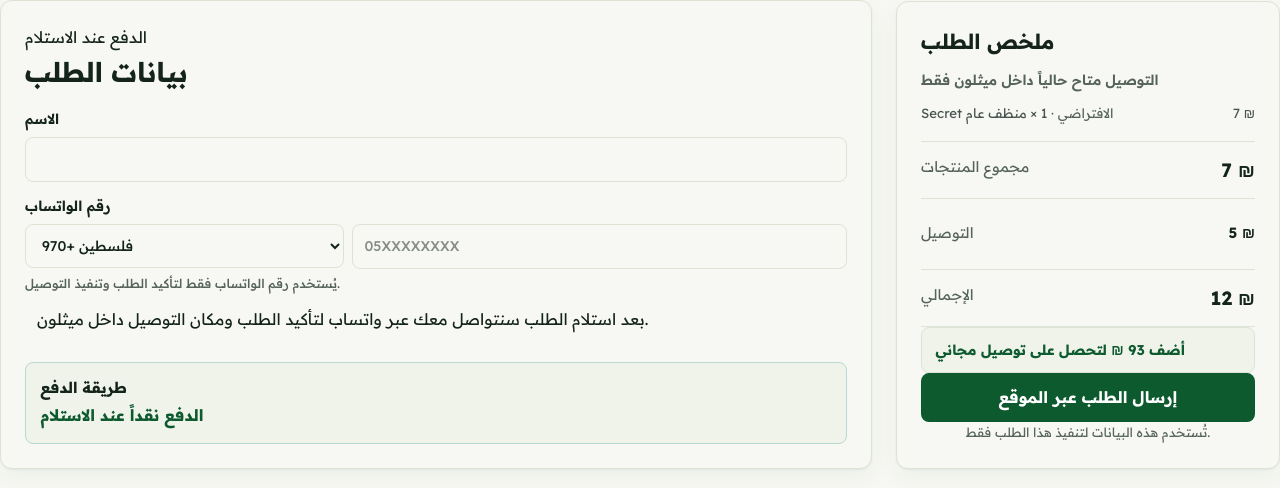
Test: checkout form › clears the cart only after a confirmed success
The width and height of the screenshot is (1280, 488).
Type "عميل تجريبي" into the field labelled "الاسم" at (436, 159), box [25,136,847,182]
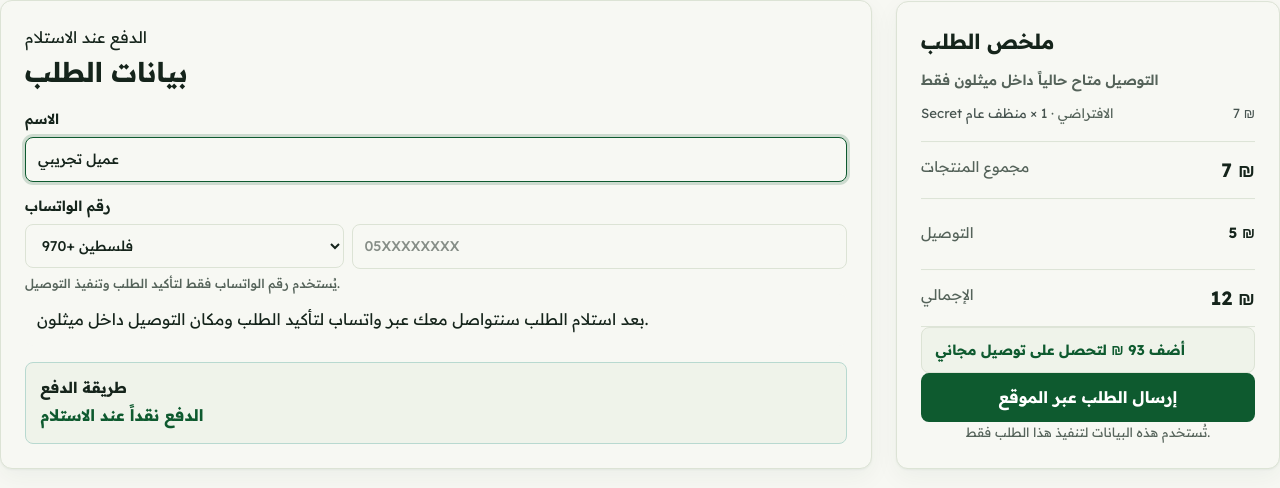
Type "0591234567" into the field named "الرقم المحلي" at (599, 246), box [352,224,847,269]
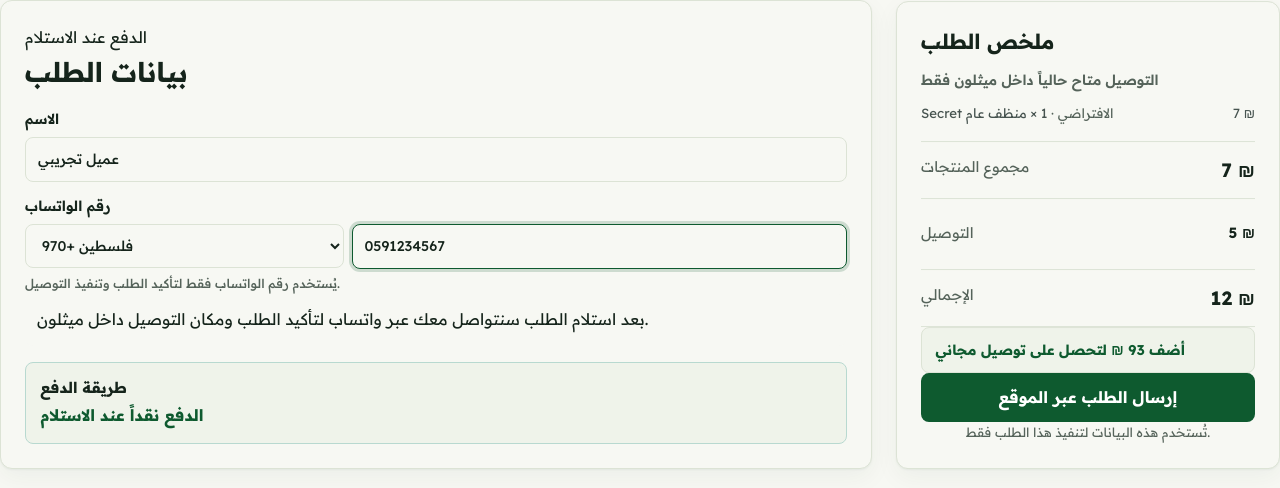
Click the button "إرسال الطلب عبر الموقع" at (1088, 397), box [921,373,1255,422]
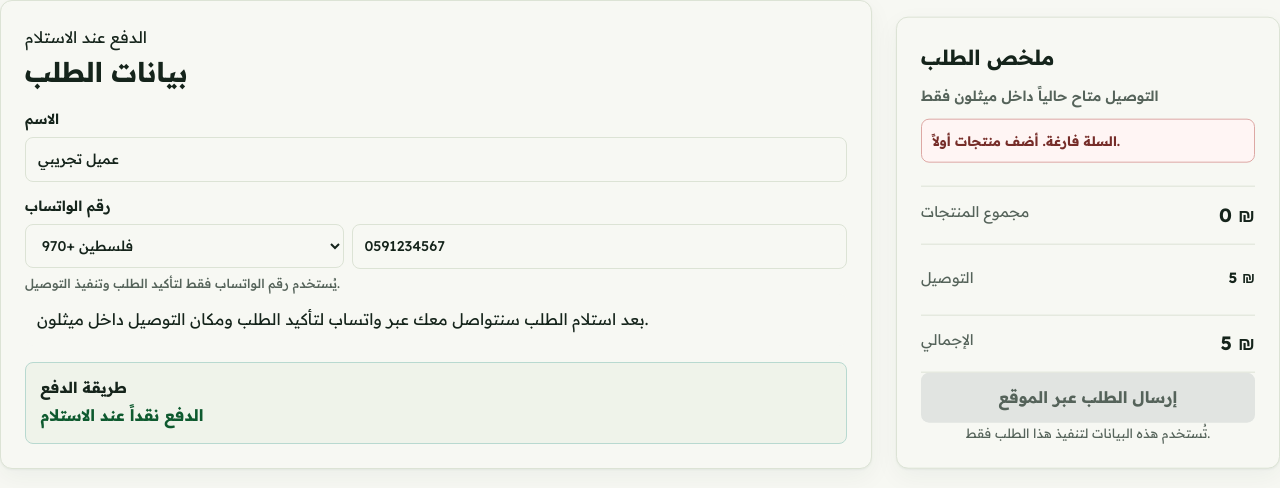
Now the text "السلة فارغة. أضف منتجات أولاً." is shown, box [921,119,1255,163]
